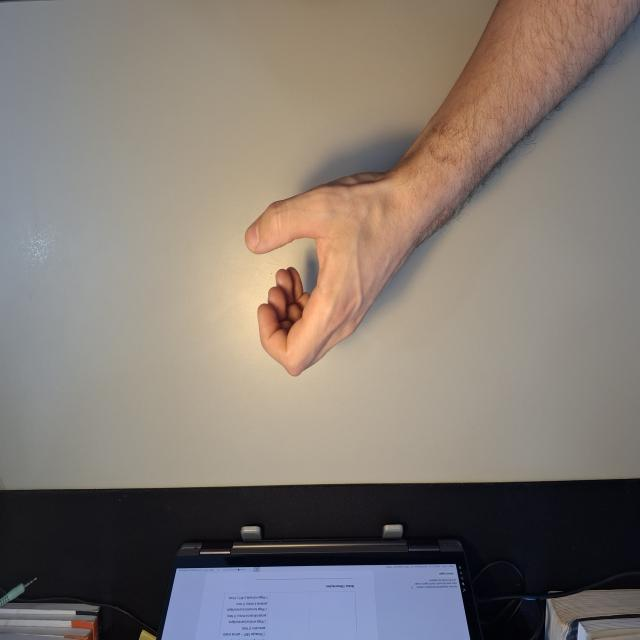glove_off: (244, 158, 420, 379)
